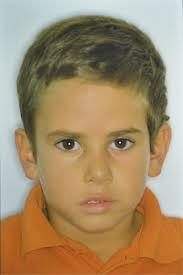normalEye: (47, 125, 146, 158)
strokeMouthWeak: (75, 193, 122, 215)
